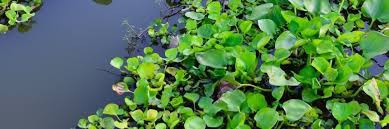water_hyacinth: (70, 1, 388, 128)
